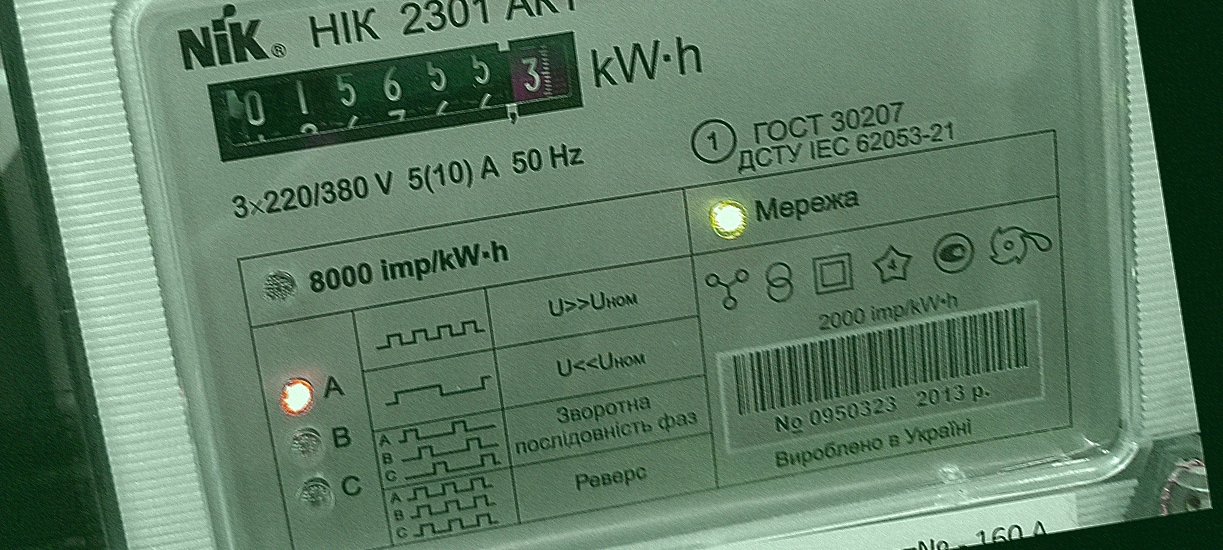0: (236, 87, 268, 131)
1: (288, 79, 312, 120)
3: (517, 57, 541, 95)
5: (329, 73, 359, 111), (422, 60, 449, 95), (468, 53, 491, 88)
6: (376, 66, 404, 105)
screen: (189, 12, 599, 183)
